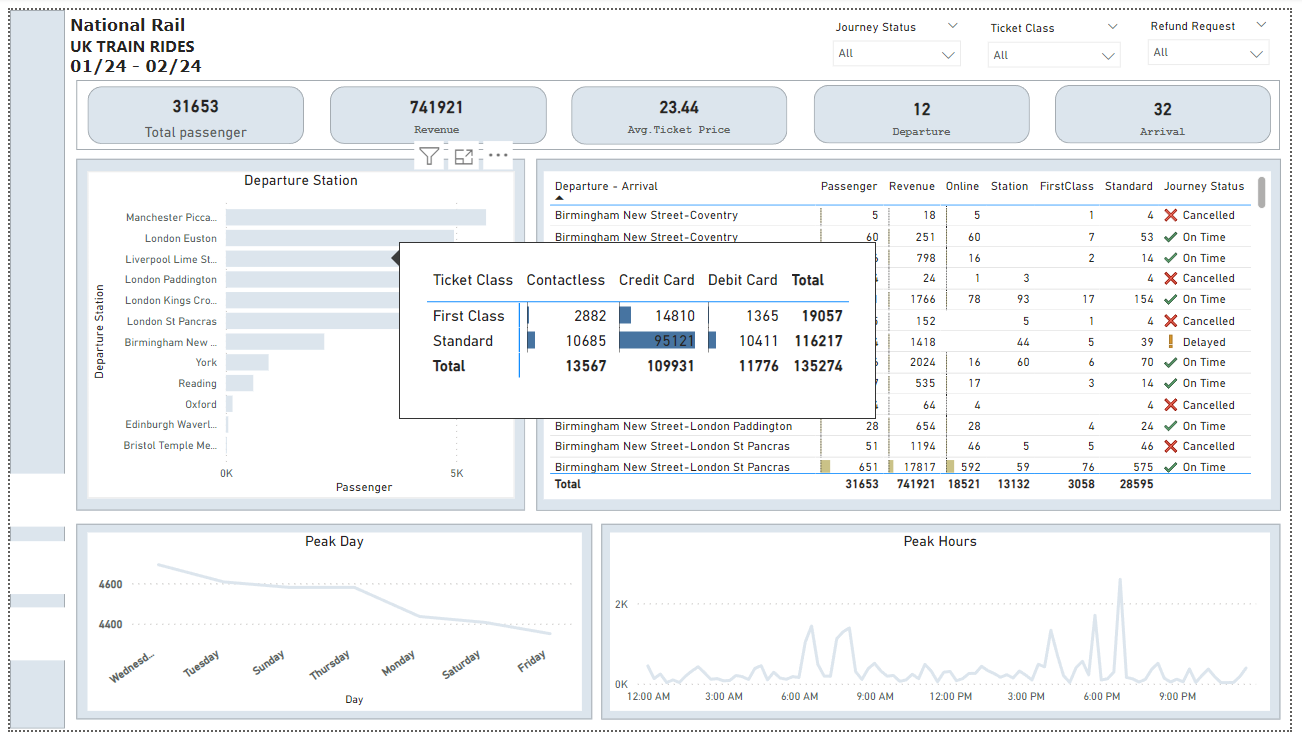

The page's visual inventory and layout, read from the dashboard file:
{"tool":"powerbi","page":{"name":"Mainpage","canvas":[1280,720],"ordinal":0},"visuals":[{"type":"shape","box":[0,0,55,718.8],"z":0},{"type":"slicer","fields":{"Values":["railway.Journey Status"]},"box":[812.8,5.5,148.3,56.7],"z":0,"group":"g2"},{"type":"shape","box":[77.4,77,216.5,57.8],"z":0,"group":"g1"},{"type":"slicer","fields":{"Values":["railway.Refund Request"]},"box":[1127.8,3.8,141.7,57.5],"z":1000,"group":"g2"},{"type":"shape","box":[1044.6,75.4,216.2,58.5],"z":1000,"group":"g1"},{"type":"shape","box":[66,513.6,516,195.7],"z":1000},{"type":"slicer","fields":{"Values":["railway.Ticket Class"]},"box":[967.8,6.3,153.3,55],"z":2000,"group":"g2"},{"type":"shape","box":[803.1,75.9,216.2,58.5],"z":2000,"group":"g1"},{"type":"shape","box":[525.8,149.2,744.7,352.2],"z":2000},{"type":"shape","box":[561.6,76.5,216.2,58.5],"z":3000,"group":"g1"},{"type":"shape","box":[65.9,148.6,449.1,351.8],"z":3000},{"type":"group","id":"g1","title":"Group 1","box":[77.4,75.4,1183.4,59.5],"z":4000},{"type":"shape","box":[319.3,76.9,216.9,57.7],"z":4000,"group":"g1"},{"type":"shape","box":[66.2,70,1203.8,70],"z":5000},{"type":"card","fields":{"Values":["KPI Metrics.Total passenger"]},"box":[77.3,76.7,216.7,58.7],"z":6000},{"type":"card","fields":{"Values":["KPI Metrics.Total Revenue"]},"box":[319.3,75.3,216.7,58.7],"z":7000},{"type":"card","fields":{"Values":["KPI Metrics.Avg_ticket_price"]},"box":[561.3,75.3,216,58.7],"z":8000},{"type":"card","fields":{"Values":["KPI Metrics.Destination"]},"box":[803.3,76,216,58.7],"z":9000},{"type":"card","fields":{"Values":["KPI Metrics.Arrival"]},"box":[1044.7,76,216,58.7],"z":10000},{"type":"textbox","box":[55,0,260,70],"z":11000},{"type":"tableEx","fields":{"Values":["railway.Source To Destination","KPI Metrics.Total passenger","KPI Metrics.Revenue","Purchase Type.Online","Purchase Type.Station","Ticket_Class .FirstClass","Ticket_Class .Standard","railway.Journey Status"]},"box":[533.2,161.4,727.6,327.7],"z":12000},{"type":"clusteredBarChart","title":"Departure Station","fields":{"Category":["railway.Departure Station"],"Y":["KPI Metrics.Total passenger average per Departure Station"]},"box":[76.9,161.2,426.9,327.5],"z":13000},{"type":"lineChart","title":"Peak Day","fields":{"Y":["KPI Metrics.Total passenger"],"Category":["railway.DayOfJourney"]},"box":[77,522.1,494,178.5],"z":14000},{"type":"shape","box":[591.7,513.3,679.2,195.8],"z":15000},{"type":"lineChart","title":"Peak Hours","fields":{"Category":["railway.Departure Time"],"Y":["KPI Metrics.Total passenger"]},"box":[600.4,522.1,660.3,178.5],"z":16000},{"type":"group","id":"g2","title":"Group 2","box":[812.8,3.8,456.7,58.3],"z":17000},{"type":"actionButton","box":[0,463.5,55,52.6],"z":18000},{"type":"actionButton","box":[0,530.7,55,52.6],"z":19000},{"type":"actionButton","box":[0,598,55,52.6],"z":20000}]}

Visuals, with their boxes in screenshot pixels (x1, y1, x2, y2), scaled from the page's 1280x720 canvas onto the 1302x739 screenshot:
shape: <region>0, 0, 56, 738</region>
slicer - railway.Journey Status: <region>827, 6, 978, 64</region>
shape: <region>79, 79, 299, 138</region>
slicer - railway.Refund Request: <region>1147, 4, 1291, 63</region>
shape: <region>1063, 77, 1282, 137</region>
shape: <region>67, 527, 592, 728</region>
slicer - railway.Ticket Class: <region>984, 6, 1140, 63</region>
shape: <region>817, 78, 1037, 138</region>
shape: <region>535, 153, 1292, 515</region>
shape: <region>571, 79, 791, 139</region>
shape: <region>67, 153, 524, 514</region>
"Group 1" group: <region>79, 77, 1282, 138</region>
shape: <region>325, 79, 545, 138</region>
shape: <region>67, 72, 1292, 144</region>
card - KPI Metrics.Total passenger: <region>79, 79, 299, 139</region>
card - KPI Metrics.Total Revenue: <region>325, 77, 545, 138</region>
card - KPI Metrics.Avg_ticket_price: <region>571, 77, 791, 138</region>
card - KPI Metrics.Destination: <region>817, 78, 1037, 138</region>
card - KPI Metrics.Arrival: <region>1063, 78, 1282, 138</region>
textbox: <region>56, 0, 320, 72</region>
tableEx - railway.Source To Destination x KPI Metrics.Total passenger: <region>542, 166, 1282, 502</region>
"Departure Station" clusteredBarChart: <region>78, 165, 512, 502</region>
"Peak Day" lineChart: <region>78, 536, 581, 719</region>
shape: <region>602, 527, 1293, 728</region>
"Peak Hours" lineChart: <region>611, 536, 1282, 719</region>
"Group 2" group: <region>827, 4, 1291, 64</region>
actionButton: <region>0, 476, 56, 530</region>
actionButton: <region>0, 545, 56, 599</region>
actionButton: <region>0, 614, 56, 668</region>
